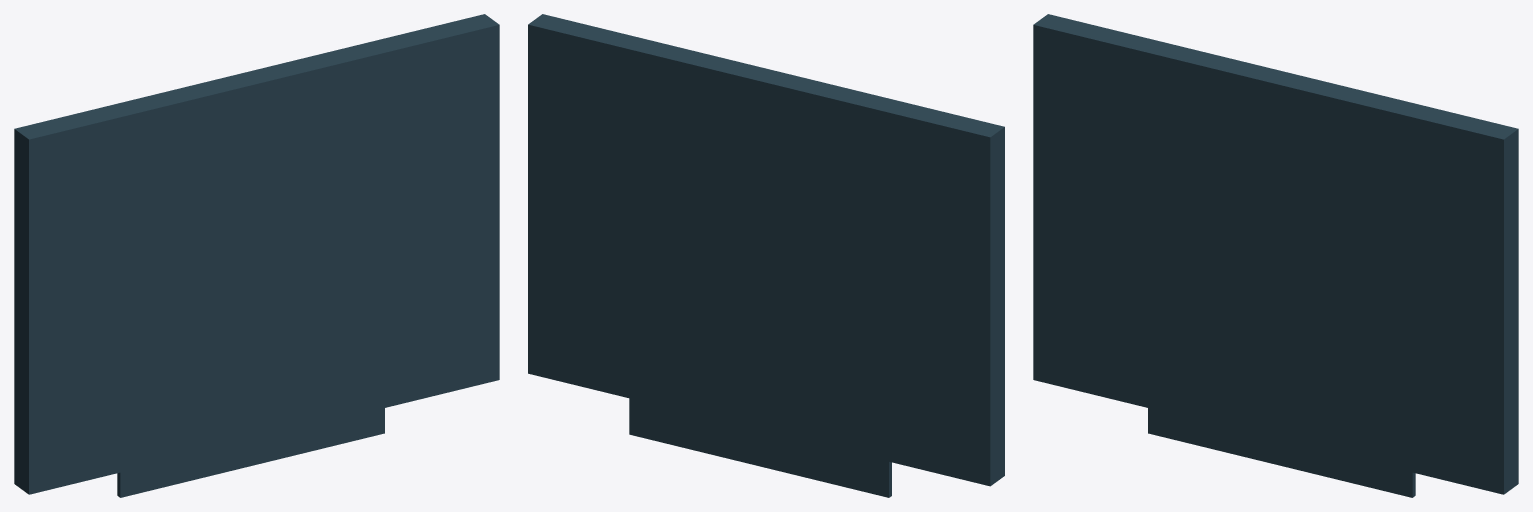
Rendered from screen.glb.
The picture shows the model from 3 angles, left to right: view 1: azimuth 30°, elevation 25°; view 2: azimuth 150°, elevation 25°; view 3: azimuth 330°, elevation 25°; orthographic projection.
Size of the model in its own units: 26.7 by 21.26 by 1.45.
